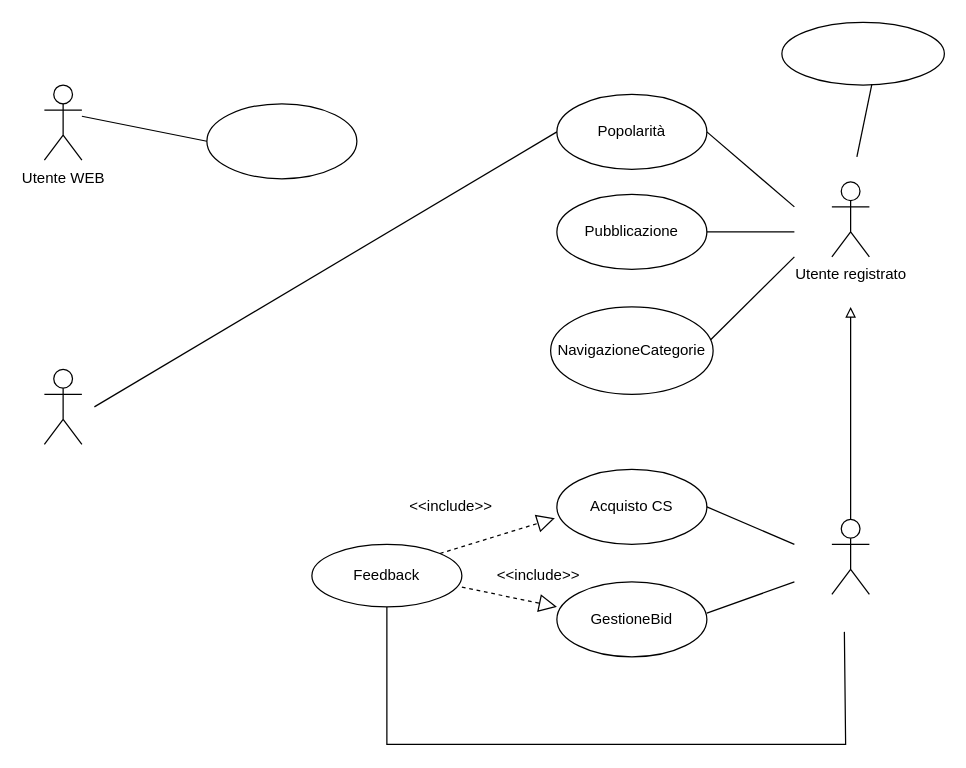
The diagram is 966 pixels wide and 768 high, and some of its shapes have lost their labels. Each missing label, with the centre of its shape:
Affidibilità: (x=862, y=53)
Redazione: (x=62, y=406)
Registrazione: (x=281, y=140)
Utente registrato privato: (x=850, y=556)
